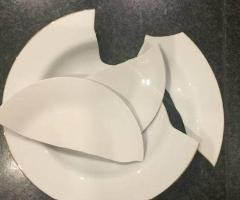glass: (0, 7, 224, 200)
